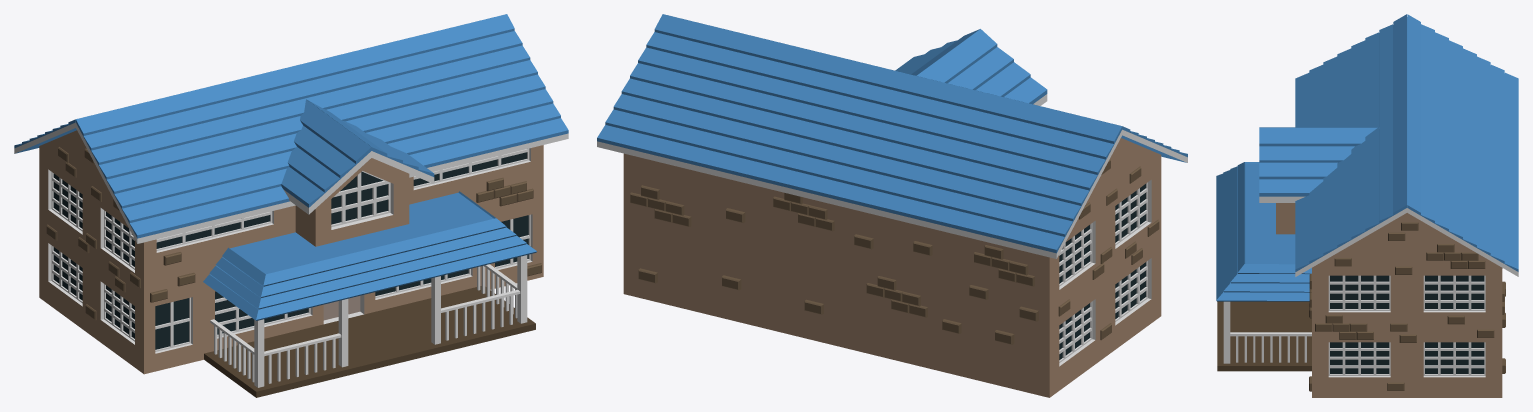
File: 23 House_4.fbx
3 renders of one model, left to right at view 1: azimuth 30°, elevation 25°; view 2: azimuth 150°, elevation 25°; view 3: azimuth 270°, elevation 25°, orthographic. The views are drawn at different scales.
Visible parts, largest first — view 1: House_4; view 2: House_4; view 3: House_4.
Part boxes in pixels (<box>): House_4: <box>14,14,568,397</box>; House_4: <box>597,14,1187,397</box>; House_4: <box>1216,14,1518,397</box>.
Size of the model in its own units: 272 by 133 by 182.
